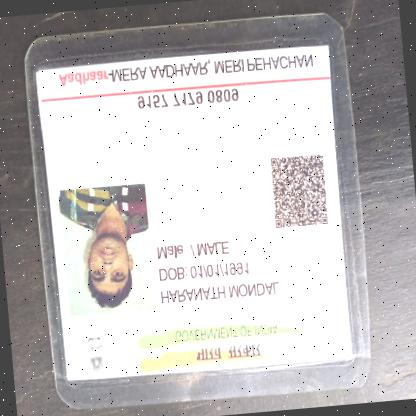aadhaar_card: (24, 13, 375, 415)
